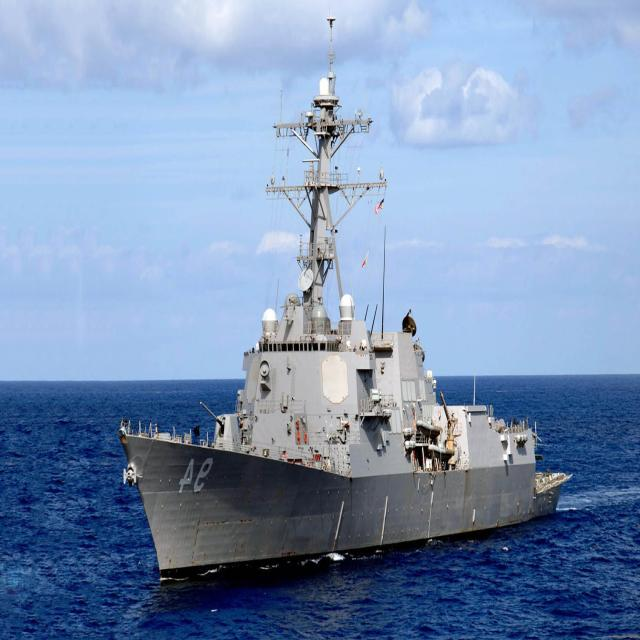navalvessels: (104, 69, 572, 625)
